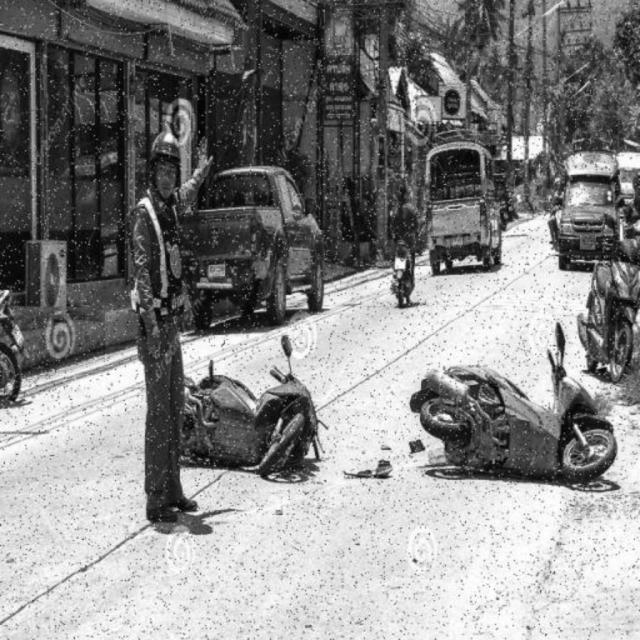person: (123, 124, 201, 520)
vehicle: (412, 349, 612, 471), (181, 159, 329, 313), (163, 352, 328, 486), (425, 131, 501, 268), (540, 145, 623, 263), (574, 222, 640, 368), (391, 182, 431, 300)
